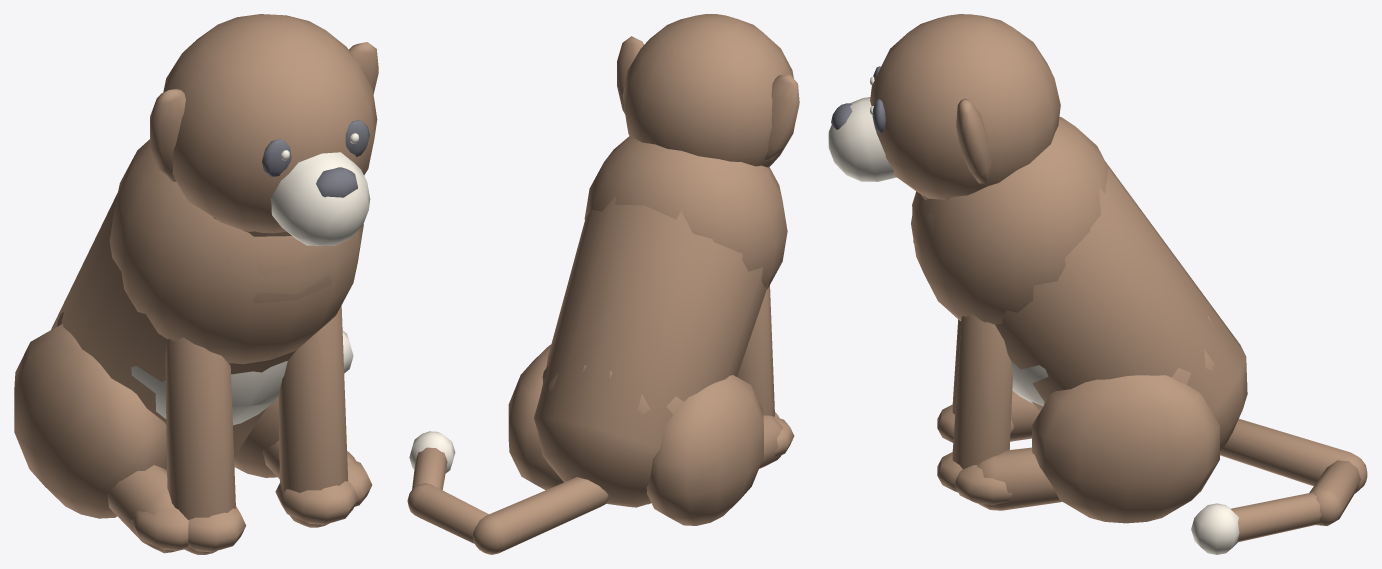
Rendered from companion-animals-and-pet-home-dog-puppy-sit-0ef4bd96__20609.glb.
The picture shows the model from 3 angles, left to right: view 1: azimuth 30°, elevation 25°; view 2: azimuth 150°, elevation 25°; view 3: azimuth 270°, elevation 25°; orthographic projection. The views are drawn at different scales.
Visible parts, largest first — view 1: dog-puppy-sit; view 2: dog-puppy-sit; view 3: dog-puppy-sit.
Part boxes in pixels (x1=…): dog-puppy-sit: x1=14, y1=14, x2=378, y2=554; dog-puppy-sit: x1=407, y1=14, x2=799, y2=554; dog-puppy-sit: x1=828, y1=14, x2=1367, y2=554.
Bounding box in the file's own units: 0.3458 × 0.4773 × 0.5039.
